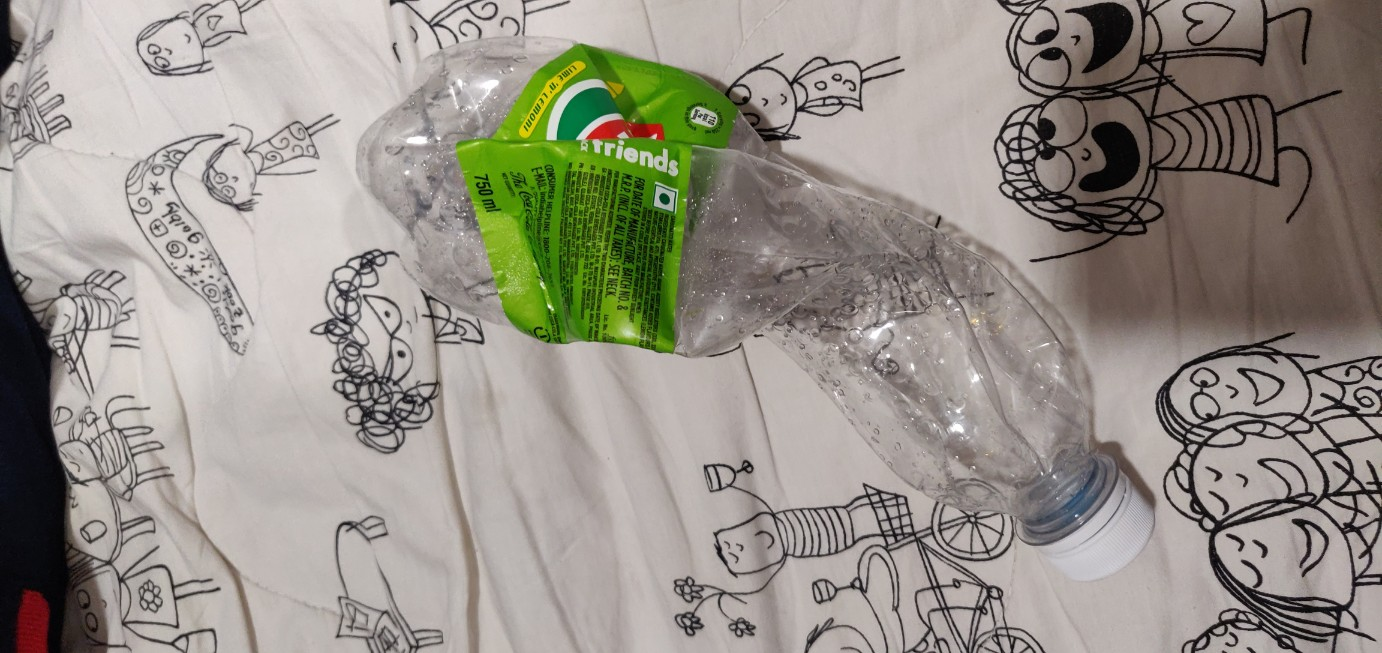Electronics: (338, 16, 1208, 609)
